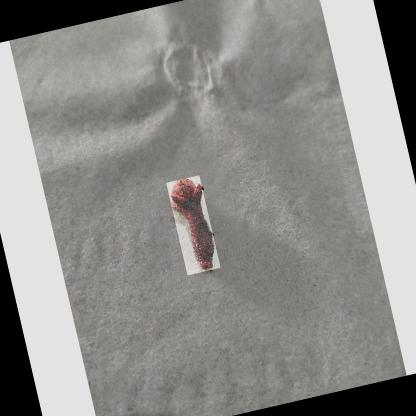baik: (173, 179, 216, 271)
